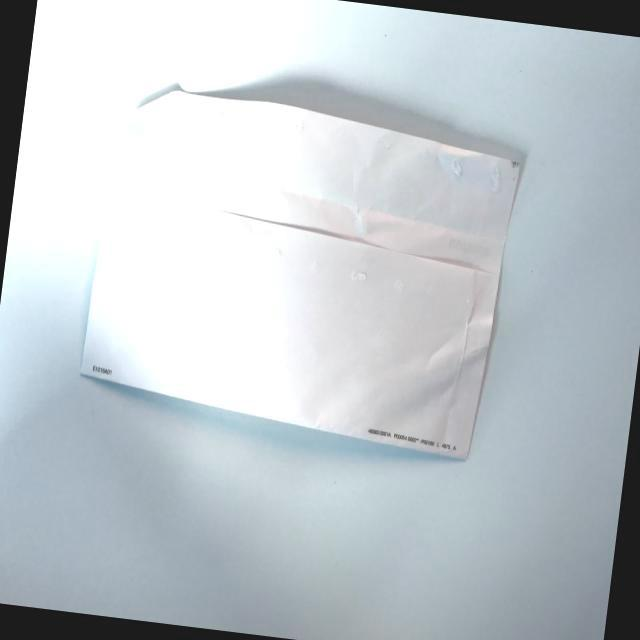paper: (69, 69, 542, 478)
